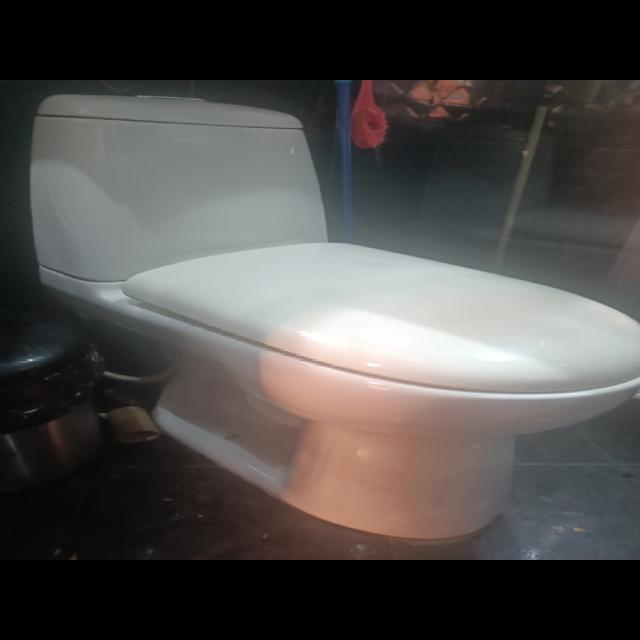toilet: (28, 93, 639, 540)
